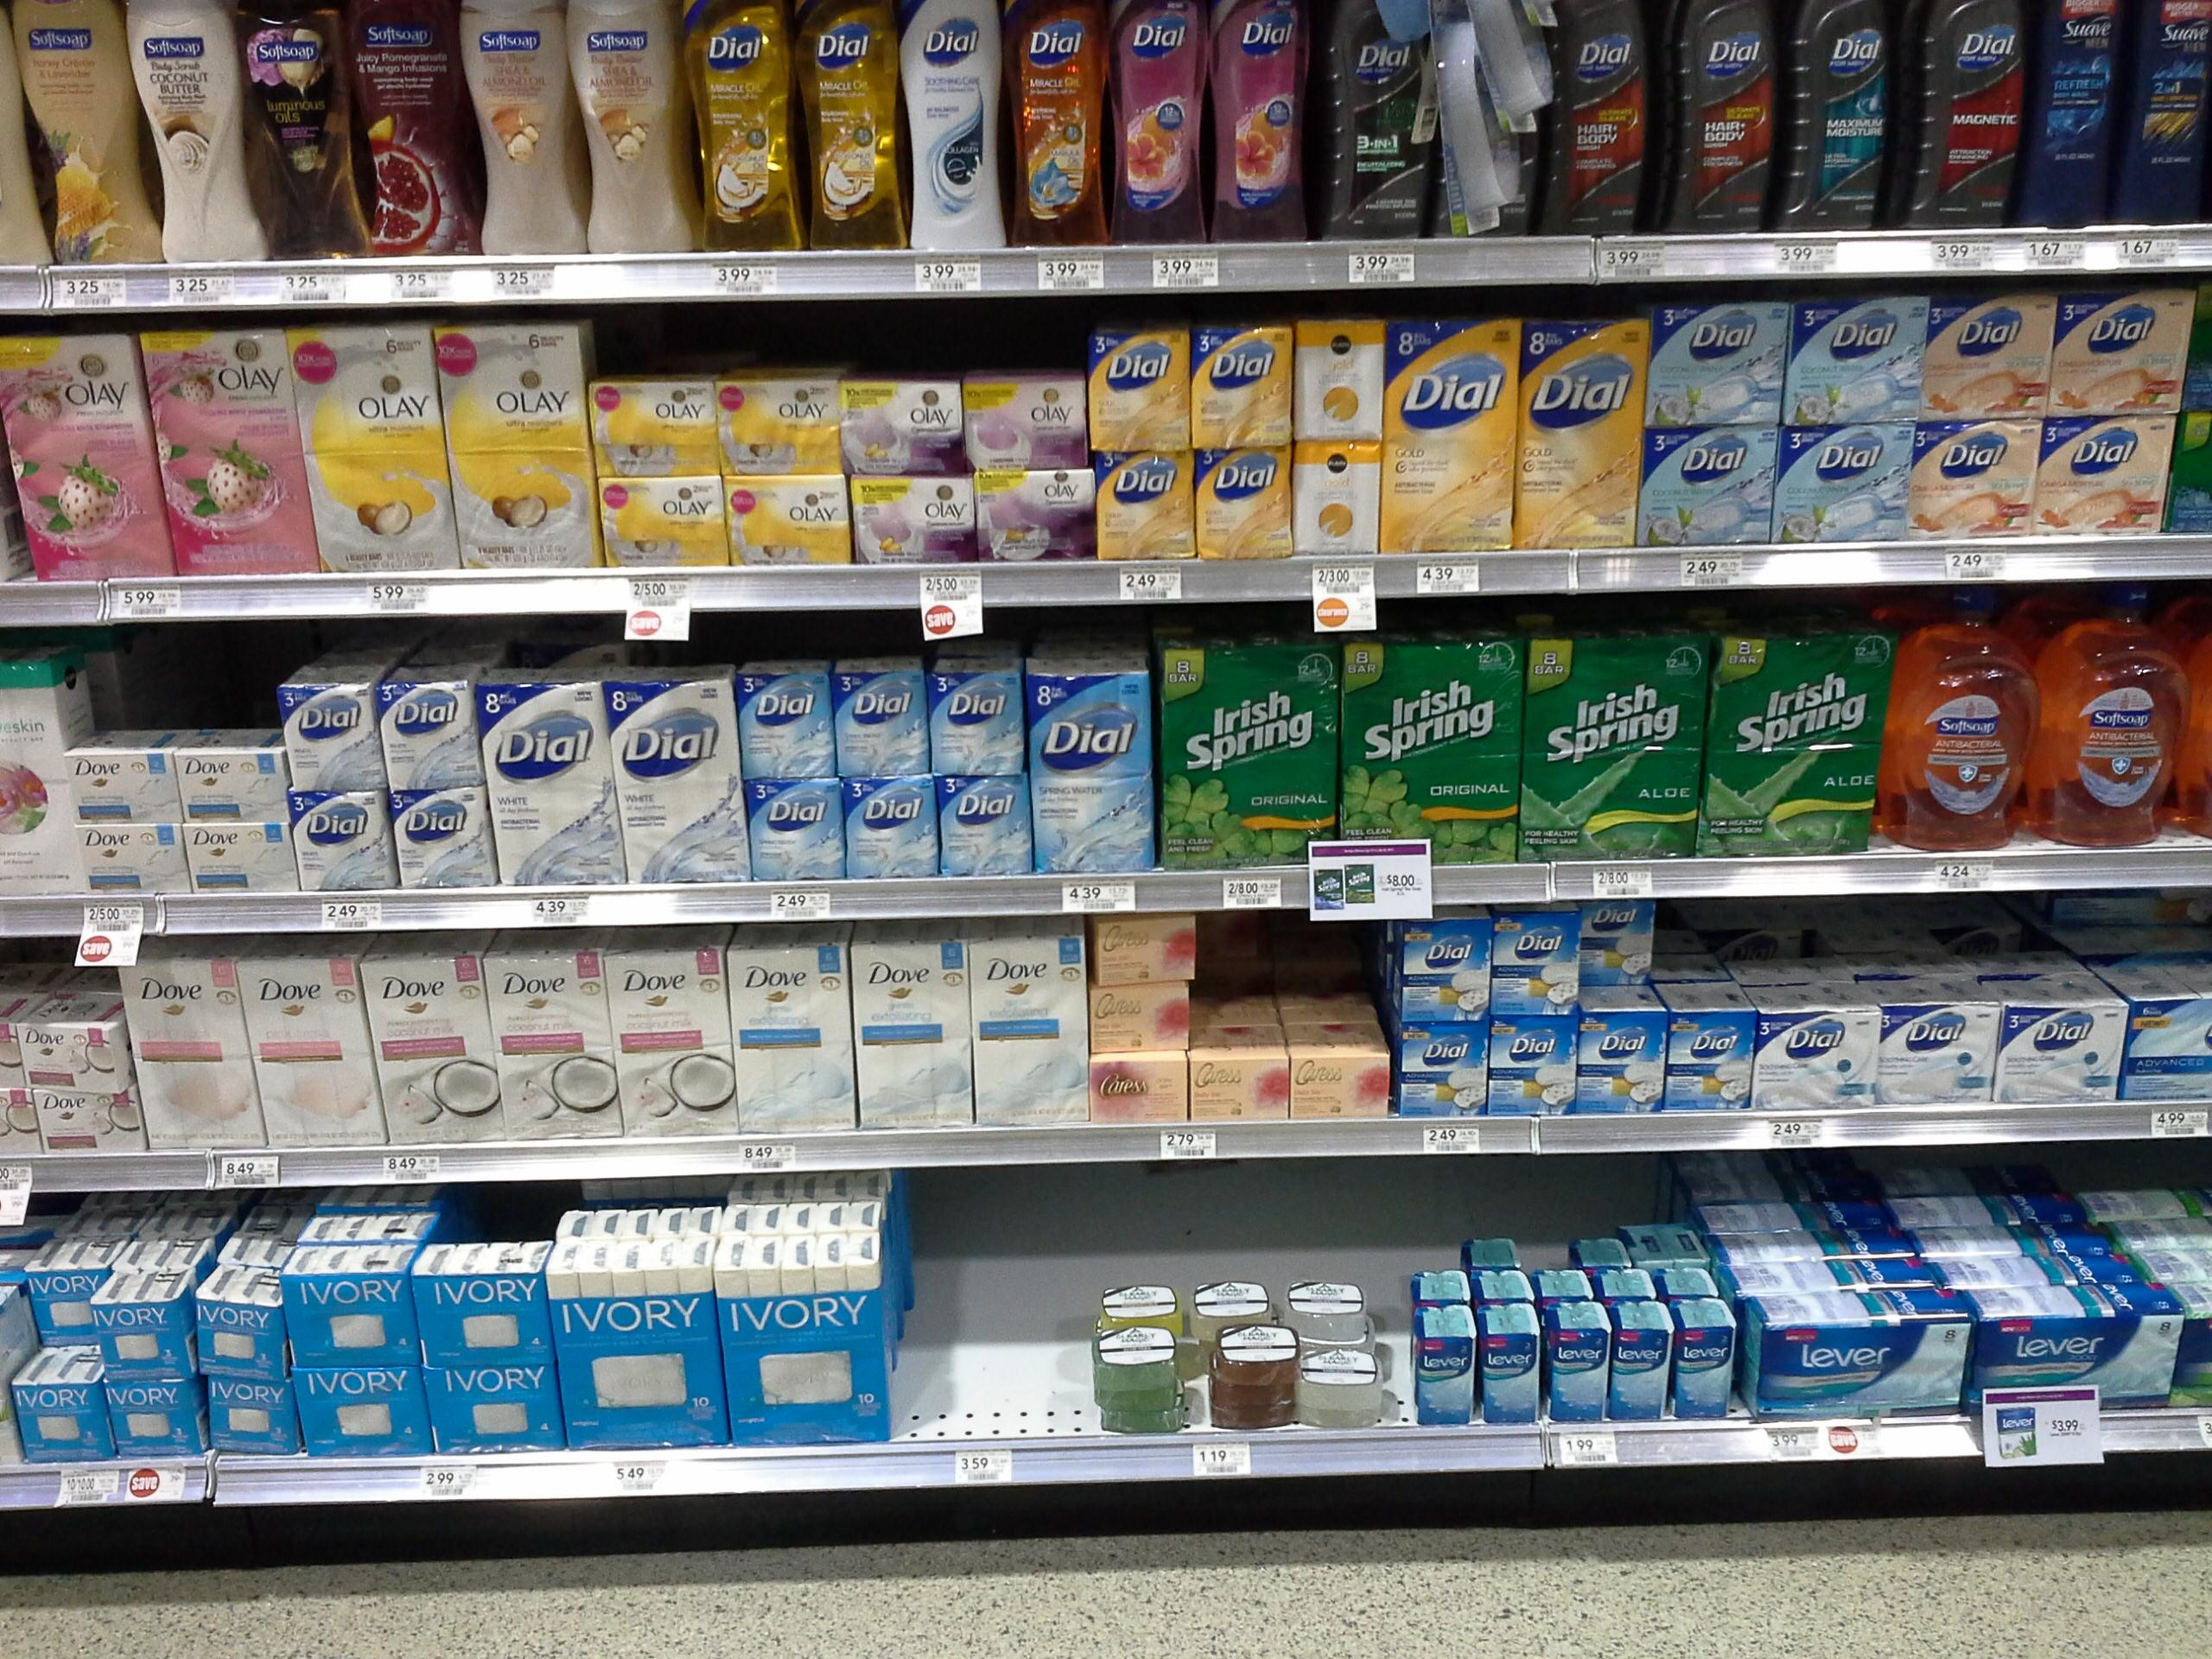empty: (899, 1220, 1090, 1432), (1200, 929, 1388, 1051)
